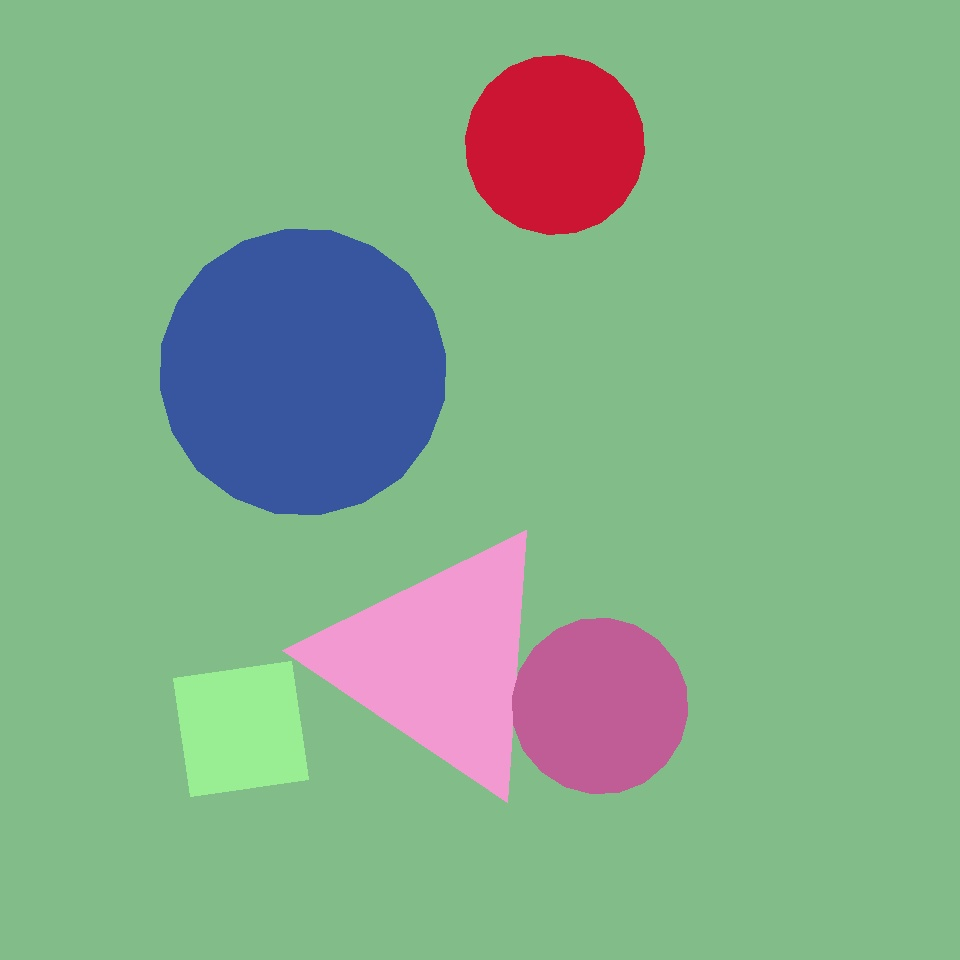circle: (317, 525, 561, 797)
square: (28, 537, 391, 900), (268, 443, 496, 671), (174, 662, 308, 796)
triangle: (327, 116, 694, 483), (160, 230, 446, 514), (466, 55, 644, 234), (512, 618, 688, 794)
